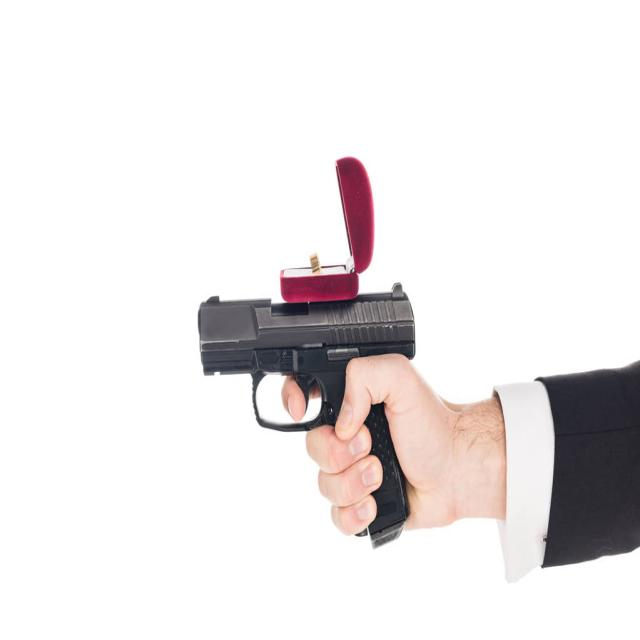HandGun: (193, 280, 423, 548)
